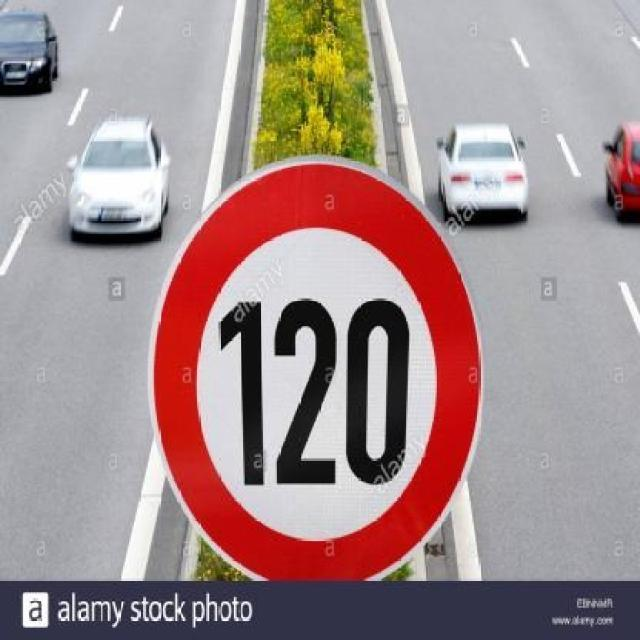forb_speed_over_120: (150, 156, 479, 579)
